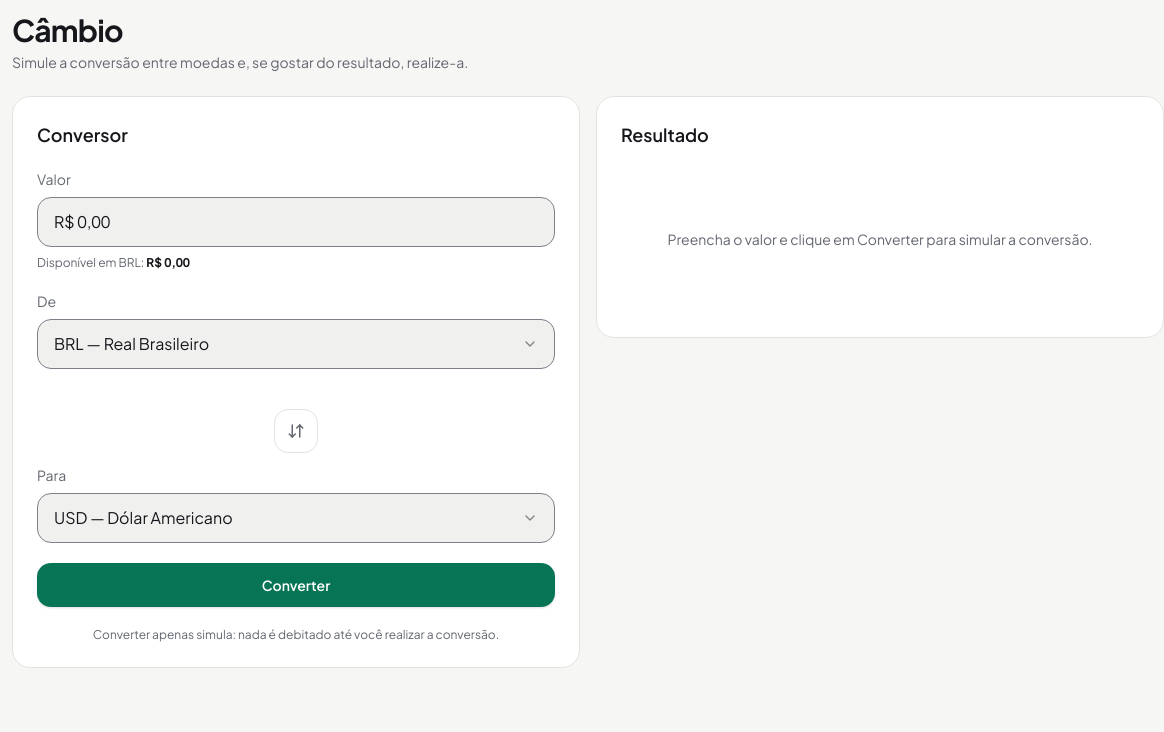
Test: Exchange (simular e depois realizar) › mudar o valor depois de simular invalida o resultado e esconde 'Realizar conversão'
Expected: the heading "Câmbio" is shown, x1=12 y1=11 x2=123 y2=49
Replace the text in the field named "Valor a converter" with "1000" at (296, 222), box x1=37 y1=197 x2=555 y2=247
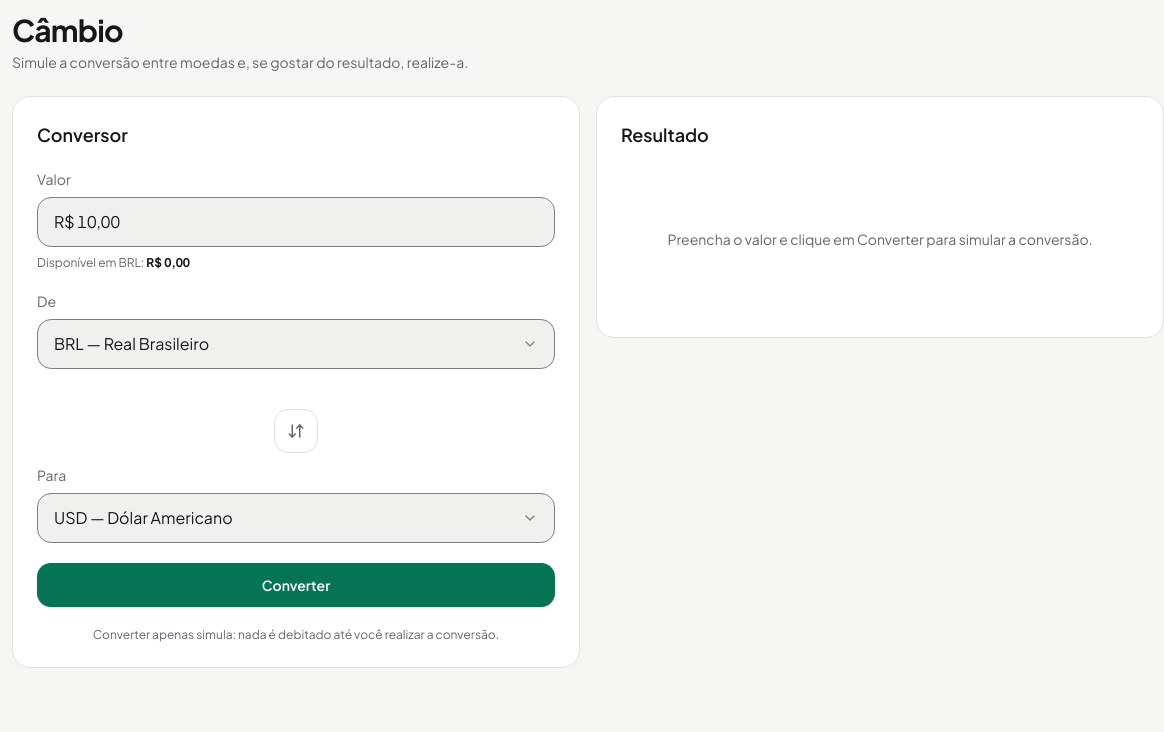
Click the button "Converter" at (296, 585), box x1=37 y1=563 x2=555 y2=607
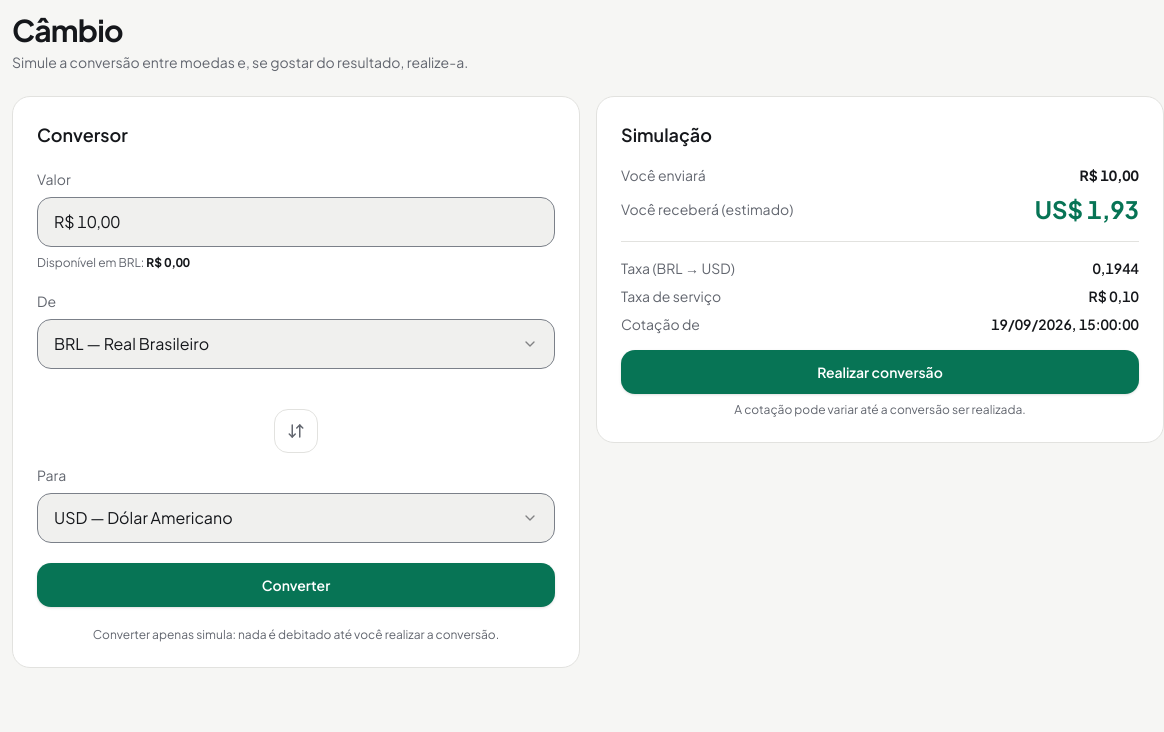
Expected: the button "Realizar conversão" is shown, x1=621 y1=350 x2=1139 y2=394
Replace the text in the field named "Valor a converter" with "2000" at (296, 222), box x1=37 y1=197 x2=555 y2=247
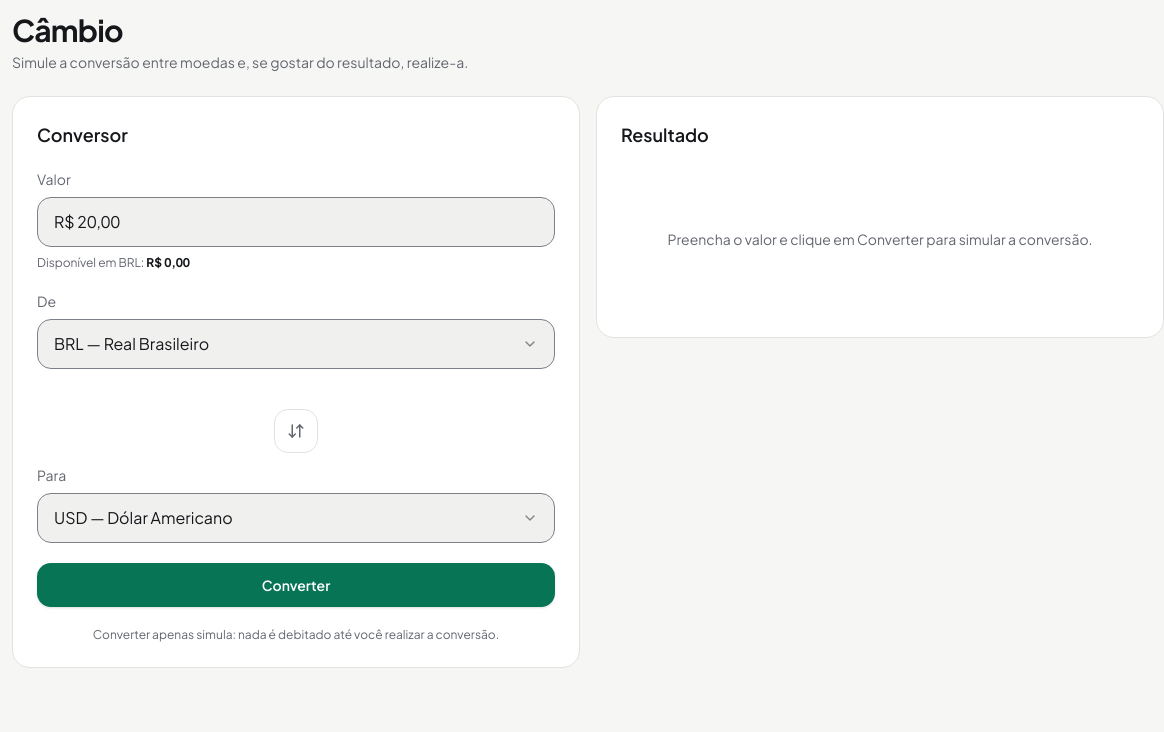
Expected: the button "Realizar conversão" is gone
Expected: the heading "Simulação" is gone
